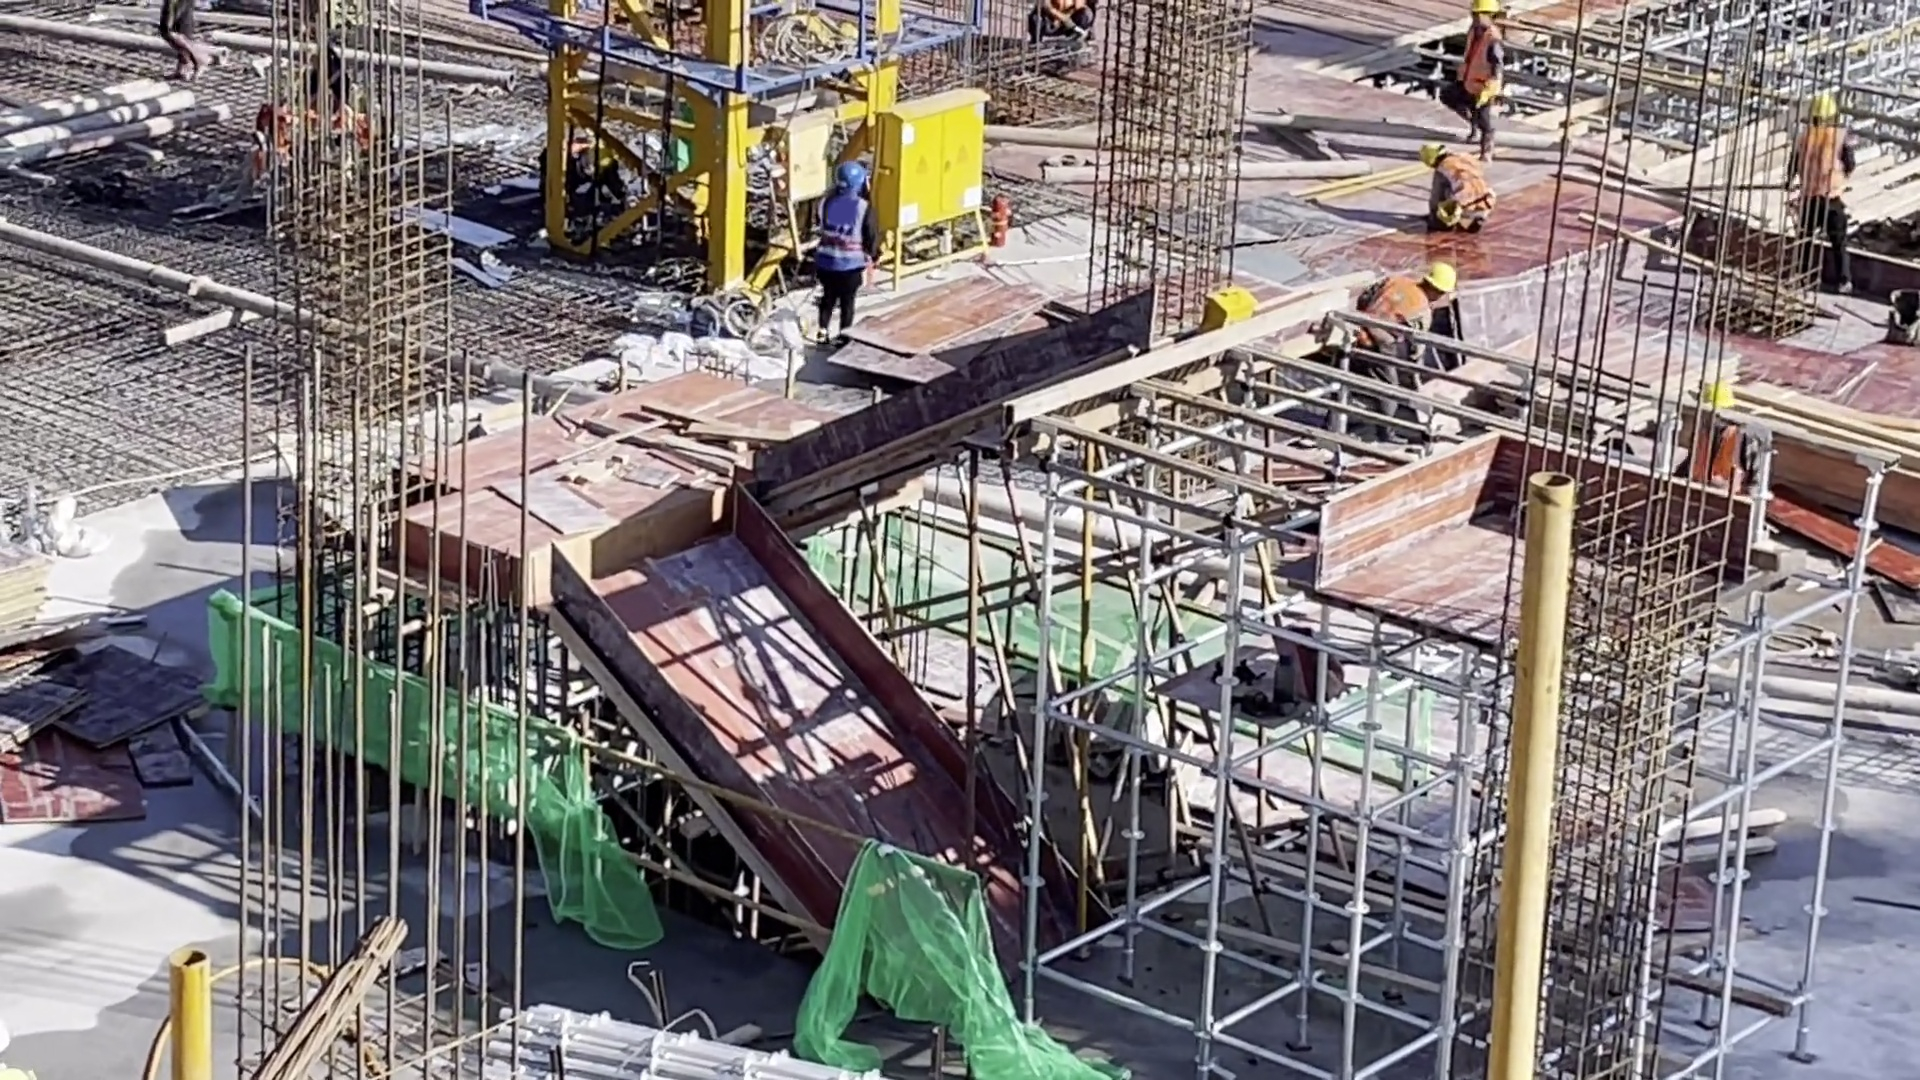board: (1, 630, 211, 845)
ebox: (875, 87, 995, 280), (777, 107, 842, 204), (1202, 283, 1266, 331)
helmet: (1804, 100, 1847, 135), (830, 160, 878, 189), (1422, 262, 1455, 292), (1697, 385, 1732, 411), (1417, 139, 1444, 162)
person: (1344, 260, 1458, 444), (802, 154, 879, 334), (1789, 82, 1855, 277), (1448, 1, 1518, 147), (1666, 383, 1765, 481), (1417, 140, 1493, 239), (153, 1, 214, 90), (1024, 1, 1105, 39)
scaffold: (483, 995, 907, 1080)
vest: (810, 198, 874, 288), (1457, 26, 1515, 107), (1367, 275, 1428, 339), (1799, 127, 1848, 204), (1685, 424, 1742, 482), (1437, 166, 1487, 219)
wood: (1749, 397, 1920, 526)
